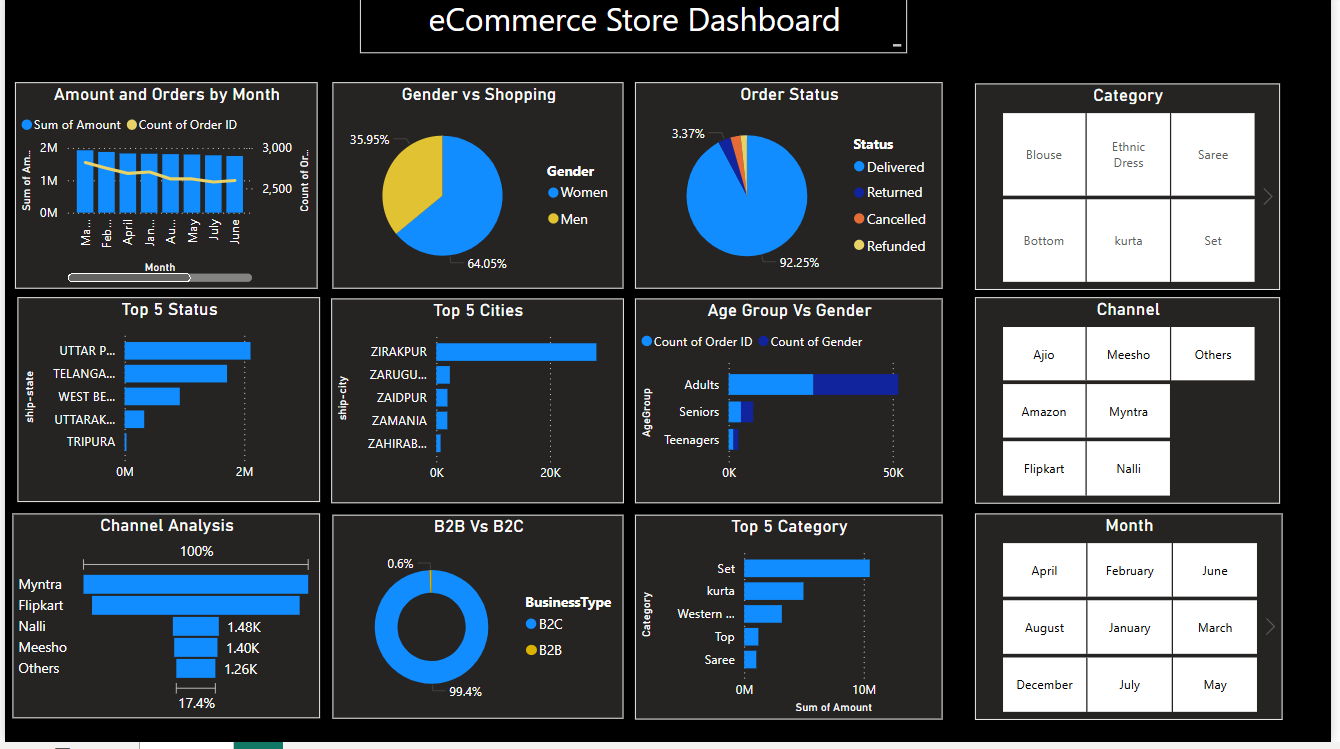

This screenshot's page, from the dashboard's own definition file:
{"tool":"powerbi","page":{"name":"Page 1","canvas":[1280,720],"ordinal":0},"visuals":[{"type":"textbox","title":"eCommerce Store Dashboard","box":[343.1,0,528.3,54.9],"z":0},{"type":"lineClusteredColumnComboChart","title":"Amount and Orders by Month","fields":{"Category":["MyStrore.Month"],"Y":["Sum(MyStrore.Amount)"],"Y2":["CountNonNull(MyStrore.Order ID)"]},"box":[9.7,83.2,292,199.1],"z":1000},{"type":"pieChart","title":"Gender vs Shopping","fields":{"Y":["Sum(MyStrore.Amount)"],"Category":["MyStrore.Gender"]},"box":[316.1,83.2,281.1,199.1],"z":2000},{"type":"pieChart","title":"Order Status","fields":{"Y":["CountNonNull(MyStrore.Order ID)"],"Category":["MyStrore.Status"]},"box":[608,83.2,296.8,199.1],"z":3000},{"type":"barChart","title":"Age Group Vs Gender","fields":{"Category":["MyStrore.AgeGroup"],"Y":["CountNonNull(MyStrore.Order ID)","CountNonNull(MyStrore.Gender)"]},"box":[608,292,296.8,197.9],"z":4000},{"type":"barChart","title":"Top 5 Cities","fields":{"Category":["MyStrore.ship-city"],"Y":["Sum(MyStrore.Amount)"]},"box":[314.9,292,282.3,197.9],"z":5000},{"type":"donutChart","title":"B2B Vs B2C","fields":{"Y":["CountNonNull(MyStrore.Order ID)"],"Category":["MyStrore.BusinessType"]},"box":[316.1,500.7,281.1,196.6],"z":6000},{"type":"clusteredBarChart","title":"Top 5 Category","fields":{"Category":["MyStrore.Category"],"Y":["Sum(MyStrore.Amount)"]},"box":[608,500.7,296.8,197.9],"z":7000},{"type":"slicer","title":"Category","fields":{"Values":["MyStrore.Category"]},"box":[936.2,84.5,294.4,199.1],"z":8000},{"type":"slicer","title":"Channel","fields":{"Values":["MyStrore.Channel "]},"box":[936.2,290.8,294.4,199.1],"z":9000},{"type":"slicer","title":"Month","fields":{"Values":["MyStrore.Month"]},"box":[936.2,499.5,296.8,199.1],"z":10000},{"type":"barChart","title":"Top 5 Status","fields":{"Category":["MyStrore.ship-state"],"Y":["Sum(MyStrore.Amount)"]},"box":[12.1,290.8,292,197.9],"z":11000},{"type":"funnel","title":"Channel Analysis","fields":{"Category":["MyStrore.Channel "],"Y":["CountNonNull(MyStrore.Order ID)"]},"box":[7.2,499.5,296.8,197.9],"z":12000}]}

Visuals, with their boxes in screenshot pixels (x1, y1, x2, y2), scaled from the page's 1280x720 canvas onto the 1340x749 screenshot:
"eCommerce Store Dashboard" textbox: 359 0 912 57
"Amount and Orders by Month" lineClusteredColumnComboChart: 10 87 316 294
"Gender vs Shopping" pieChart: 331 87 625 294
"Order Status" pieChart: 636 87 947 294
"Age Group Vs Gender" barChart: 636 304 947 510
"Top 5 Cities" barChart: 330 304 625 510
"B2B Vs B2C" donutChart: 331 521 625 725
"Top 5 Category" clusteredBarChart: 636 521 947 727
"Category" slicer: 980 88 1288 295
"Channel" slicer: 980 303 1288 510
"Month" slicer: 980 520 1291 727
"Top 5 Status" barChart: 13 303 318 508
"Channel Analysis" funnel: 8 520 318 725
